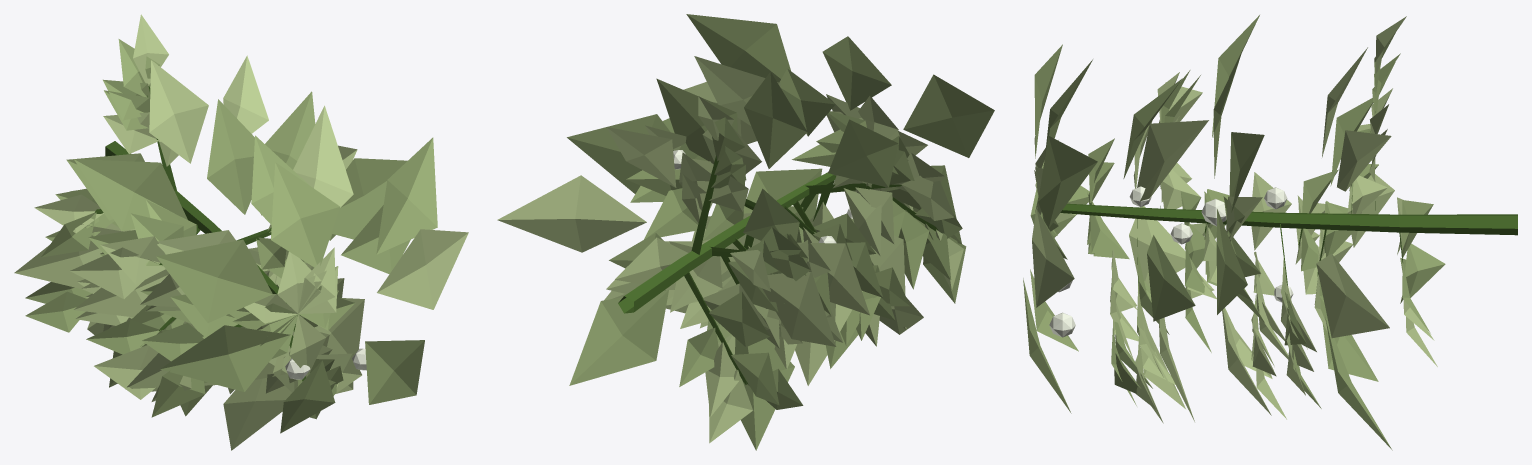
Rendered from infested_0.obj.
3 renders of one model, left to right at view 1: azimuth 30°, elevation 25°; view 2: azimuth 150°, elevation 25°; view 3: azimuth 270°, elevation 25°, orthographic. The views are drawn at different scales.
Size of the model in its own units: 0.6784 by 0.6286 by 0.7064.
